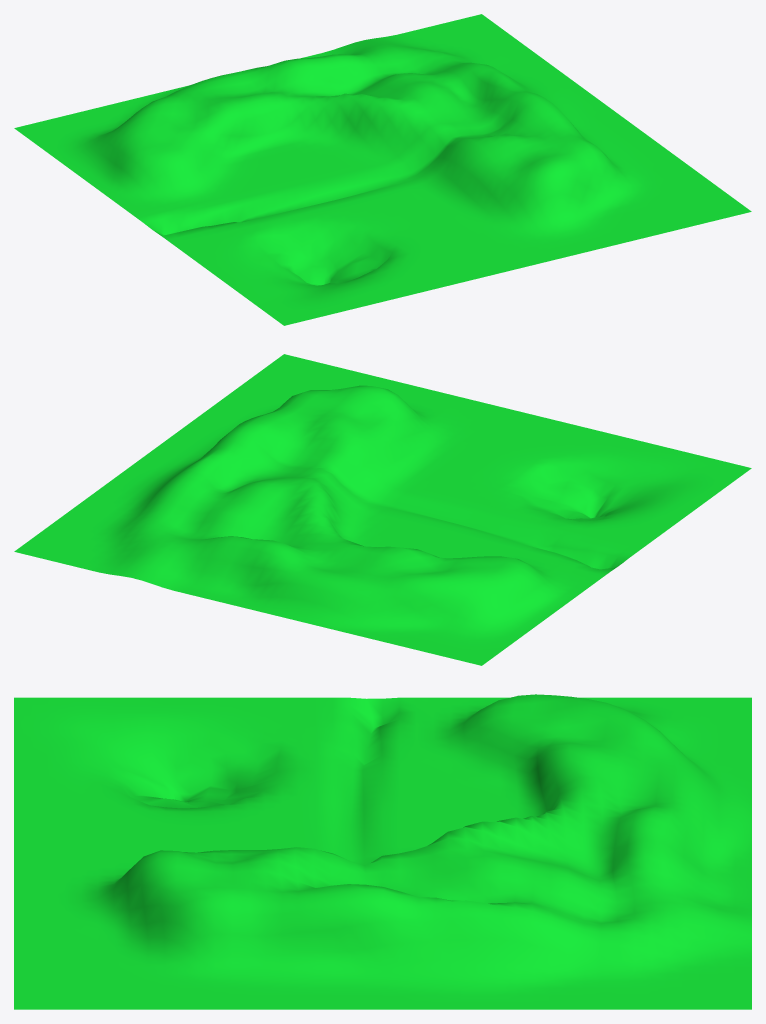
The model's file is testMap1.glb.
The picture shows the model from 3 angles, top to bottom: view 1: azimuth 30°, elevation 25°; view 2: azimuth 150°, elevation 25°; view 3: azimuth 270°, elevation 25°; orthographic projection. The views are drawn at different scales.
Parts seen in each view (by area): view 1: Plane; view 2: Plane; view 3: Plane.
Part boxes in pixels (x1,y1,x2,y2): Plane: [14, 14, 751, 325]; Plane: [14, 354, 751, 665]; Plane: [14, 694, 751, 1009].
Bounding box in the file's own units: 29.8 × 4.67 × 29.8.
